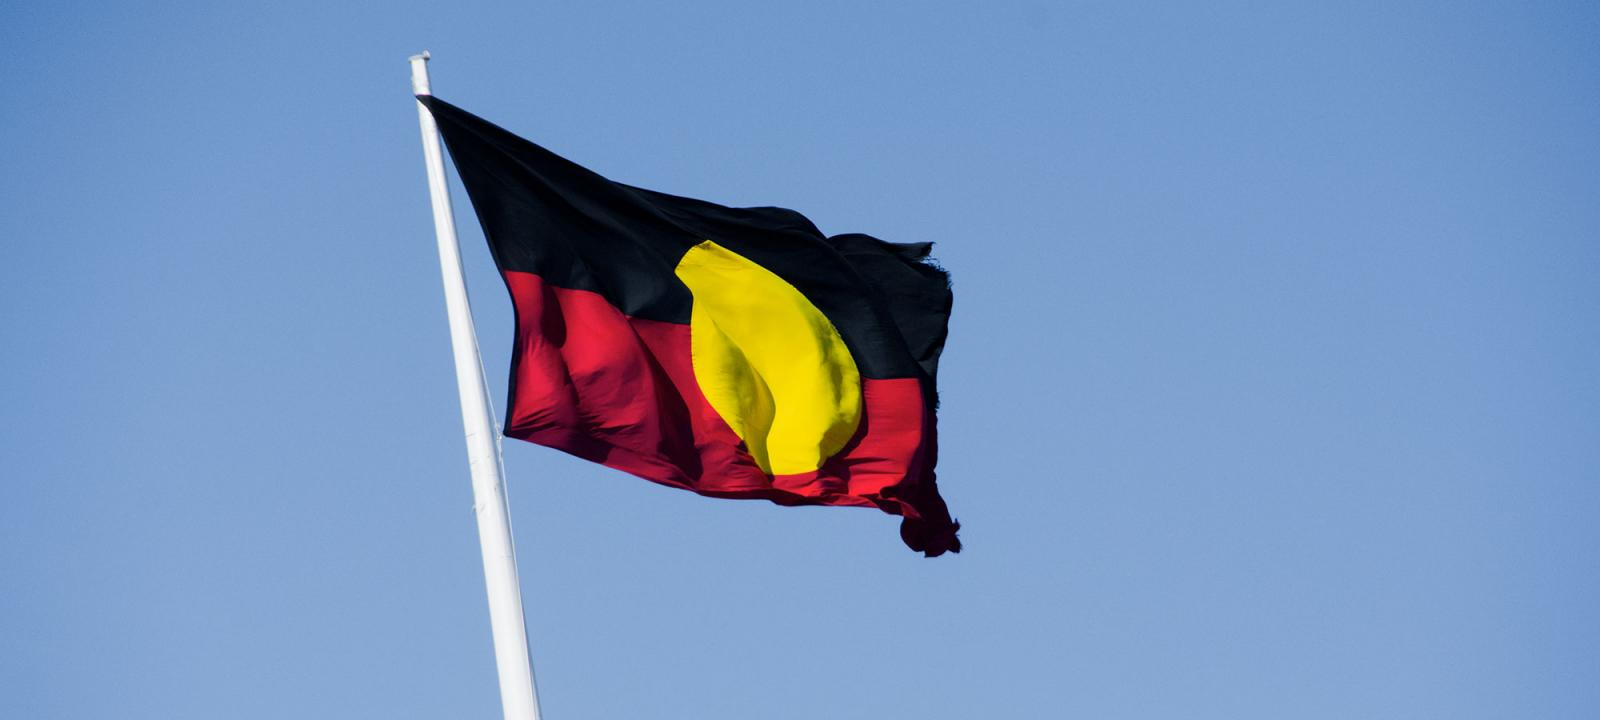aboriginal_flag: (399, 79, 986, 583)
